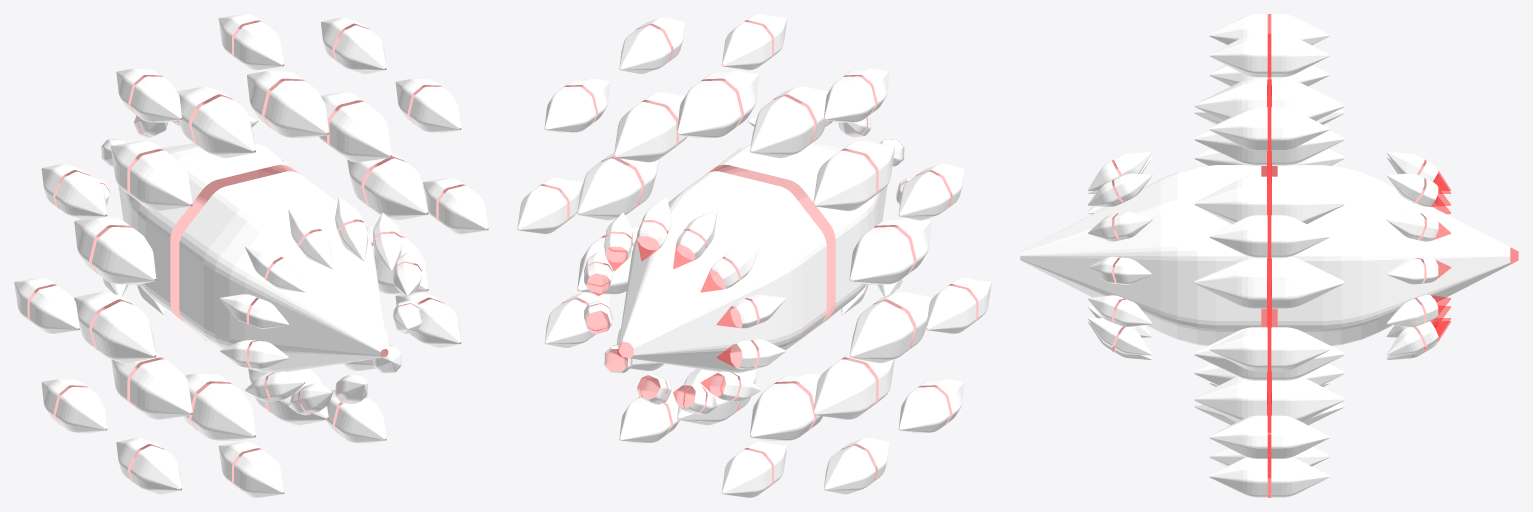
The model's file is machine_boss_1.glb.
The picture shows the model from 3 angles, left to right: view 1: azimuth 30°, elevation 25°; view 2: azimuth 150°, elevation 25°; view 3: azimuth 270°, elevation 25°; orthographic projection. The views are drawn at different scales.
Parts seen in each view (by area): view 1: machine_boss_1_inner_orbiters, machine_boss_1_core, machine_boss_1_outer_orbiters, machine_boss_1_back_orbiters, machine_boss_1_front_orbiters; view 2: machine_boss_1_inner_orbiters, machine_boss_1_core, machine_boss_1_outer_orbiters, machine_boss_1_front_orbiters, machine_boss_1_back_orbiters; view 3: machine_boss_1_core, machine_boss_1_inner_orbiters, machine_boss_1_outer_orbiters, machine_boss_1_back_orbiters, machine_boss_1_front_orbiters.
Boxes of the visible parts, left/top/right/bottom form: machine_boss_1_inner_orbiters: left=74, top=70, right=428, bottom=441; machine_boss_1_core: left=118, top=143, right=388, bottom=372; machine_boss_1_outer_orbiters: left=14, top=14, right=488, bottom=497; machine_boss_1_back_orbiters: left=220, top=197, right=421, bottom=415; machine_boss_1_front_orbiters: left=94, top=115, right=282, bottom=314; machine_boss_1_inner_orbiters: left=577, top=70, right=931, bottom=441; machine_boss_1_core: left=618, top=143, right=887, bottom=372; machine_boss_1_outer_orbiters: left=517, top=14, right=991, bottom=497; machine_boss_1_front_orbiters: left=584, top=197, right=785, bottom=414; machine_boss_1_back_orbiters: left=723, top=115, right=910, bottom=314; machine_boss_1_core: left=1020, top=165, right=1518, bottom=345; machine_boss_1_inner_orbiters: left=1194, top=79, right=1344, bottom=432; machine_boss_1_outer_orbiters: left=1209, top=14, right=1329, bottom=497; machine_boss_1_back_orbiters: left=1087, top=152, right=1152, bottom=359; machine_boss_1_front_orbiters: left=1386, top=152, right=1450, bottom=359.
Size of what is drawn, in the model's own units: 290 by 290 by 300.
